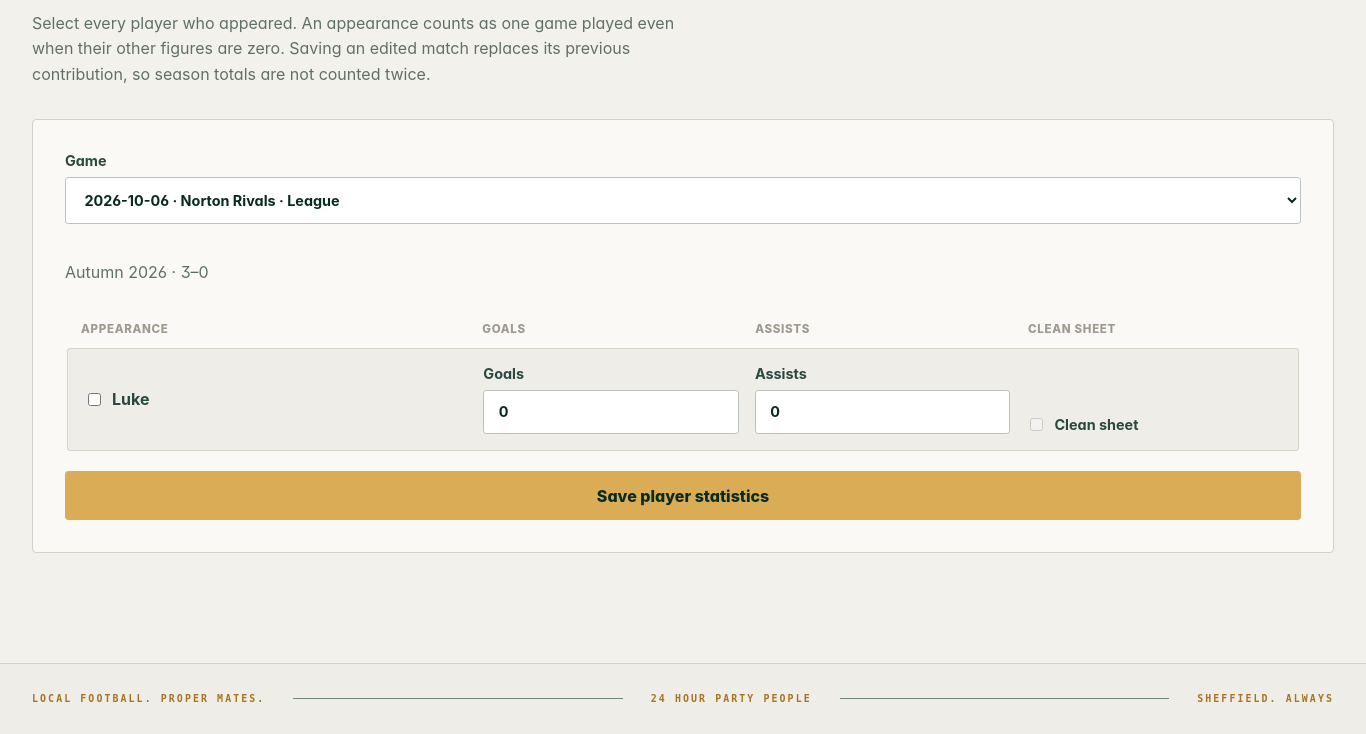
Test: App › lets an administrator save player contributions for a tracked game
This screenshot has width=1366, height=734.
(page scrolled)
Click the checkbox named "Luke appearance" at (94, 399), box top-left (88, 393), bottom-right (101, 406)
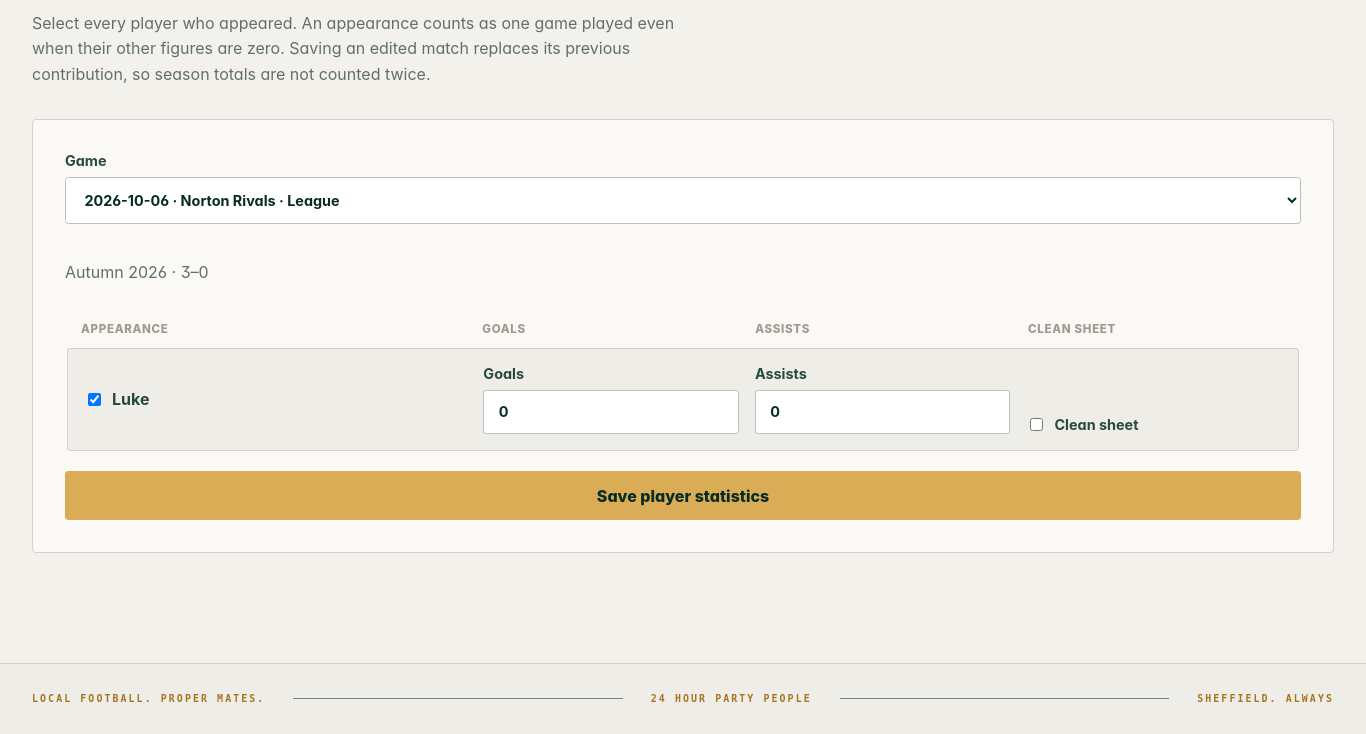
Replace the text in the number field named "Luke goals" with "2" at (611, 412), box top-left (483, 390), bottom-right (739, 434)
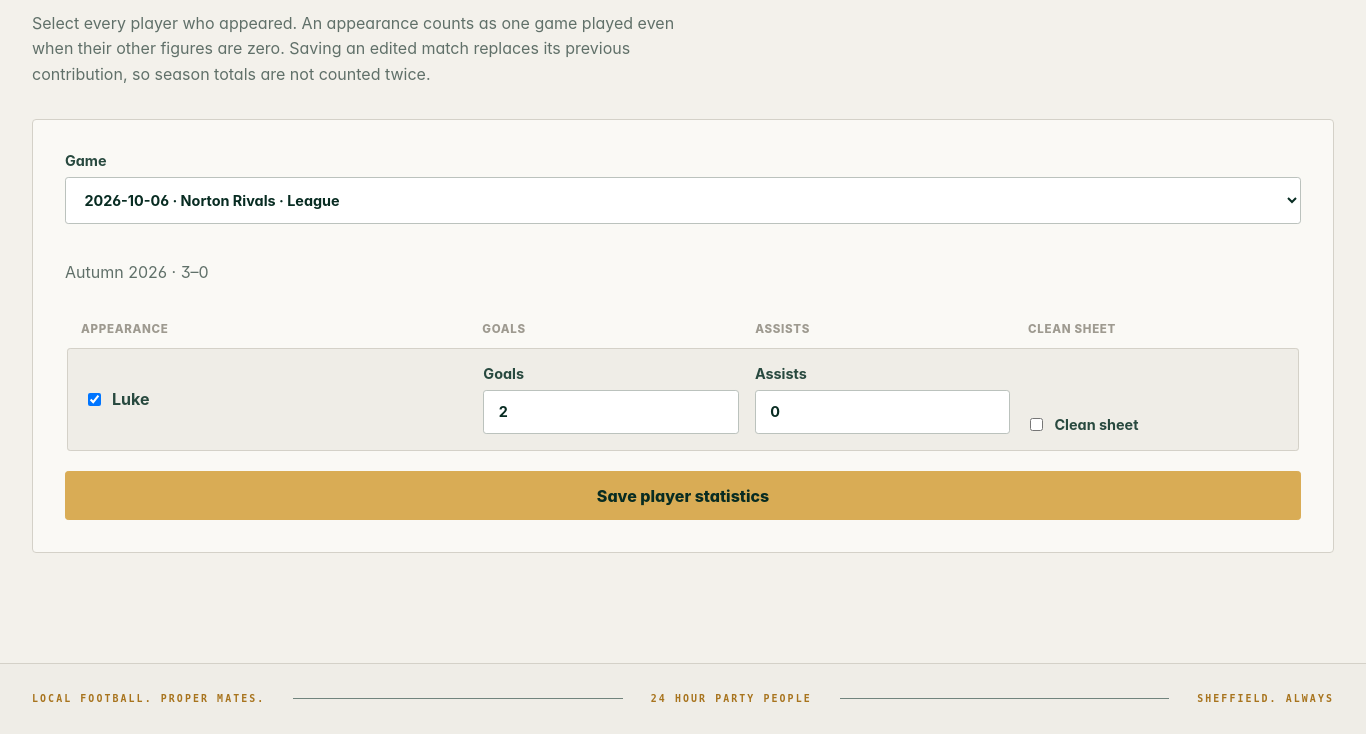
Replace the text in the number field named "Luke assists" with "1" at (883, 412), box top-left (755, 390), bottom-right (1010, 434)
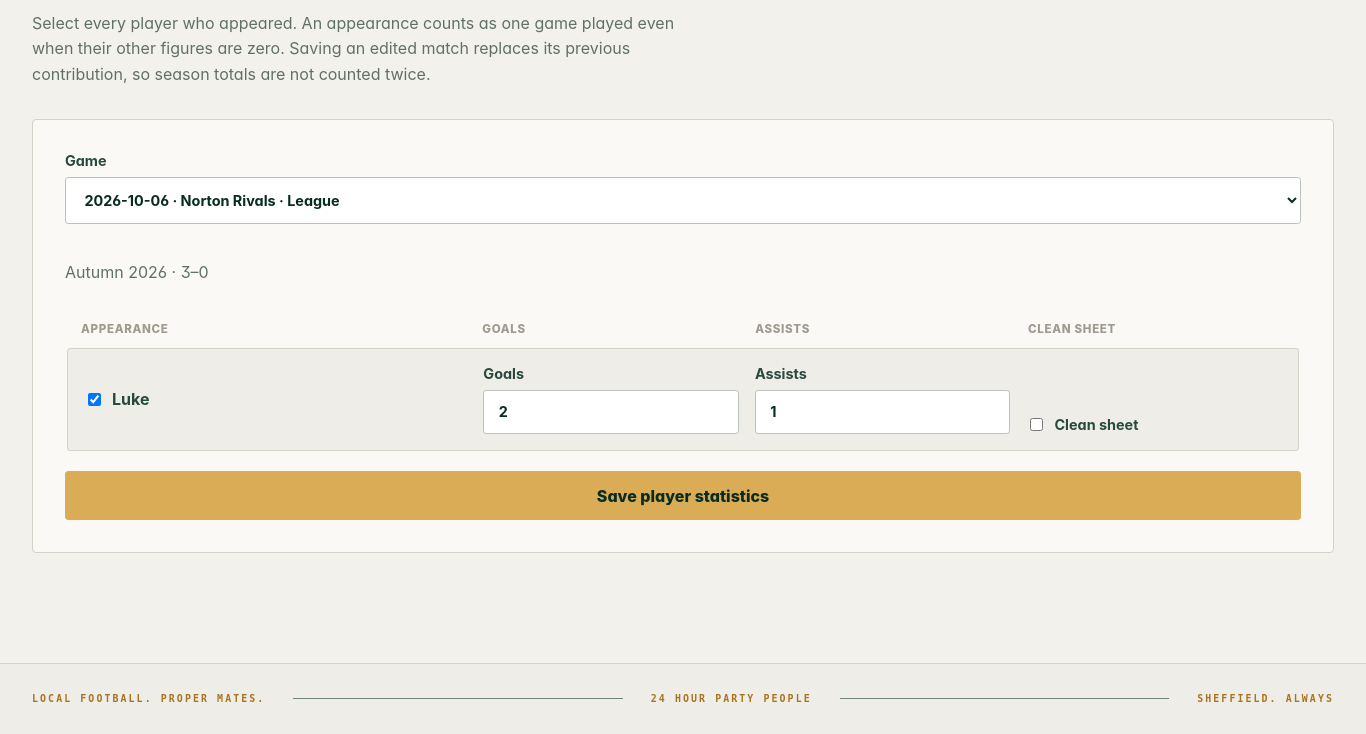
Click the checkbox named "Luke clean sheet" at (1037, 425), box top-left (1030, 418), bottom-right (1043, 431)
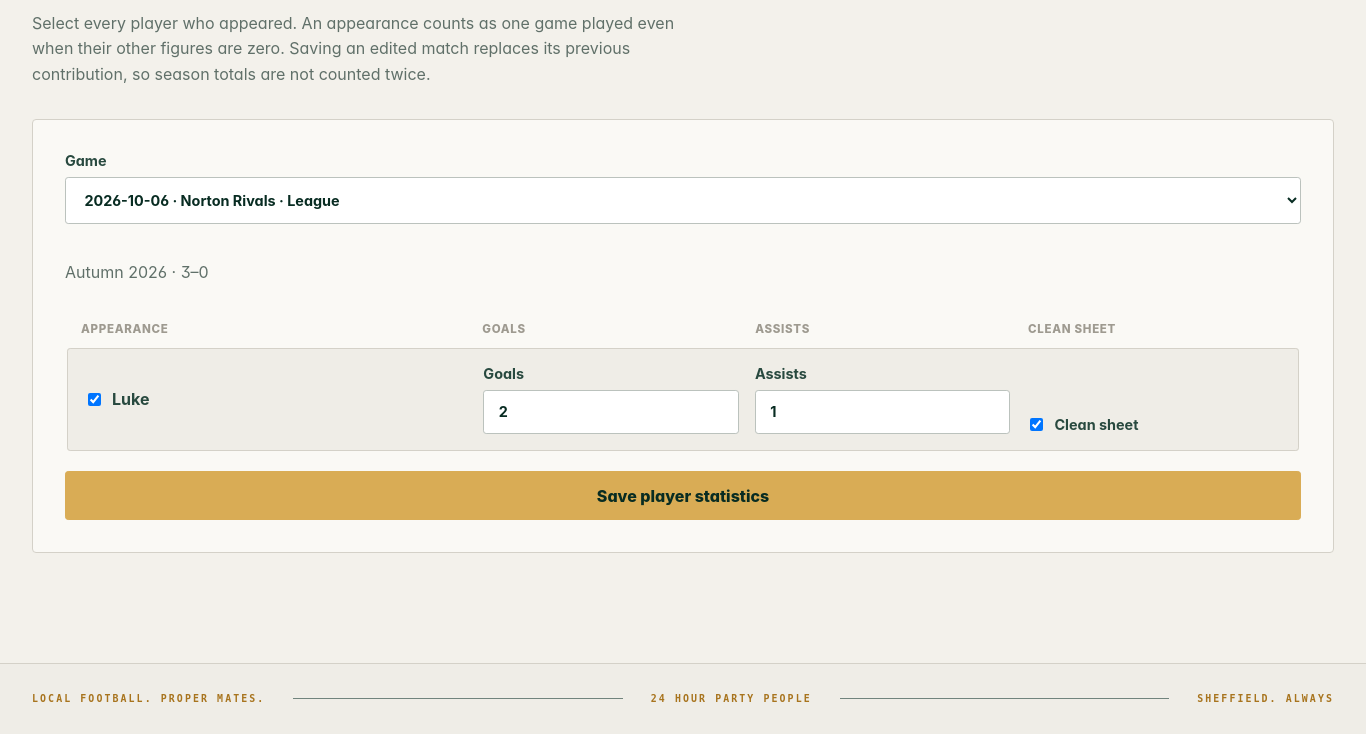
Click the button "Save player statistics" at (683, 496), box top-left (65, 471), bottom-right (1301, 520)
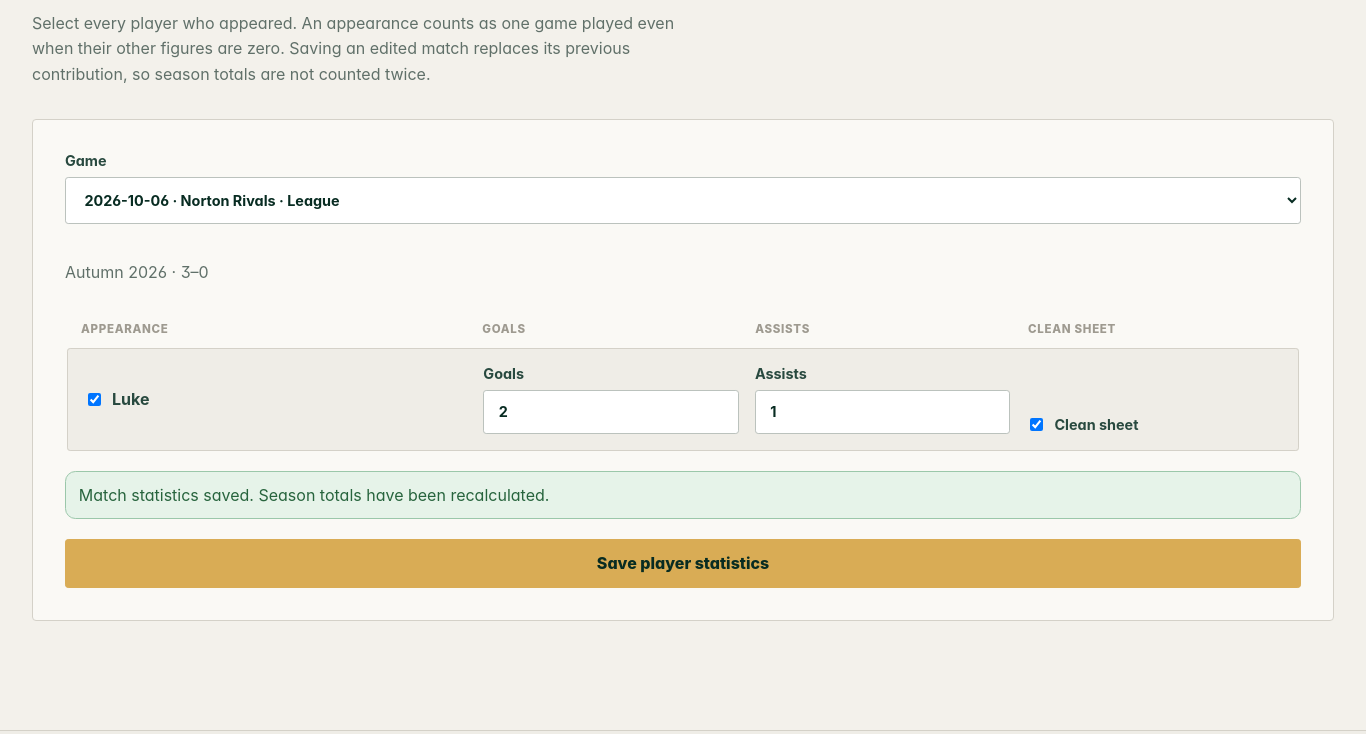
Result: the text "Match statistics saved. Season totals have been recalculated." is shown at top-left (65, 471), bottom-right (1301, 519)
